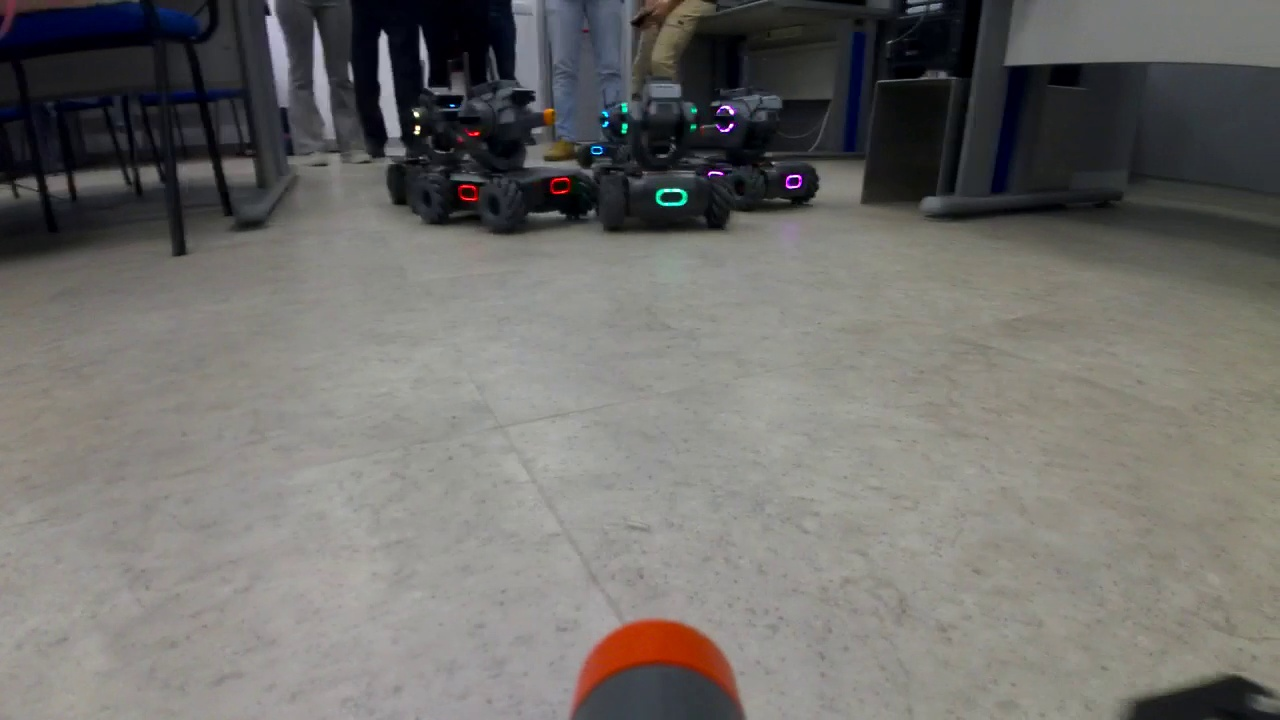robot: (410, 79, 595, 237), (596, 77, 732, 231), (698, 87, 821, 214)
